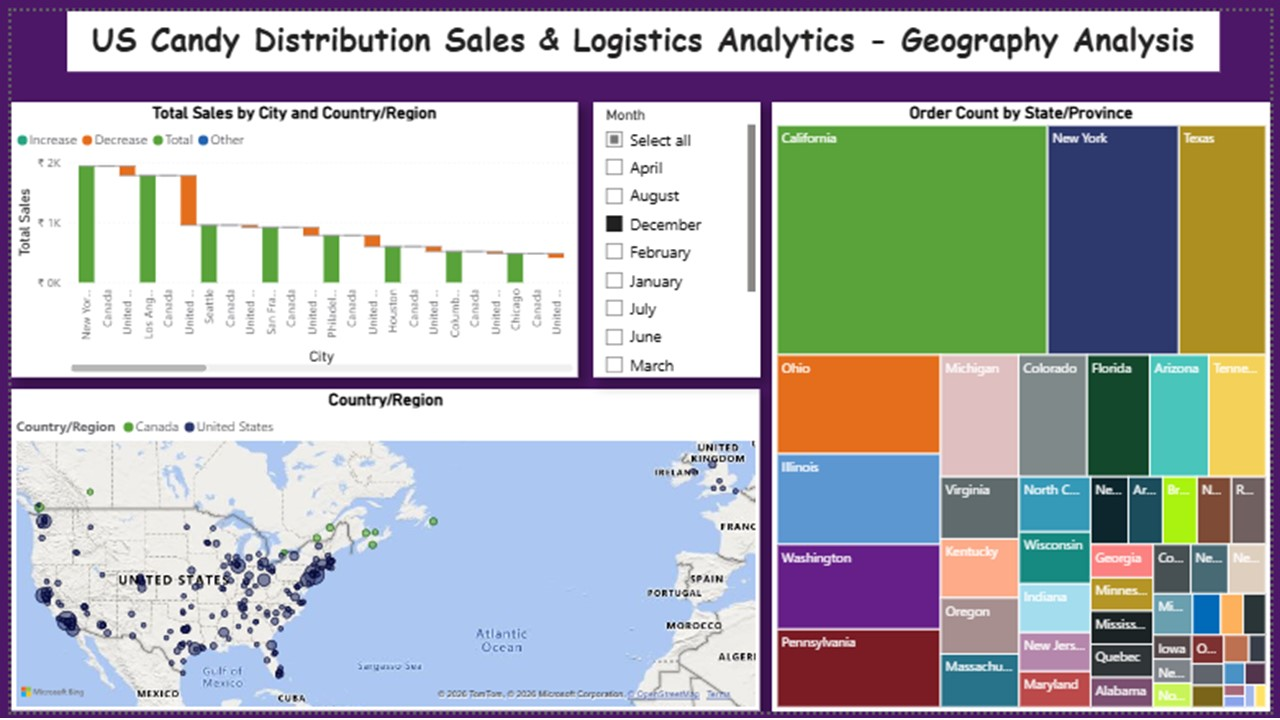

The page's visual inventory and layout, read from the dashboard file:
{"tool":"powerbi","page":{"name":"Geography Analysis","canvas":[1280,720],"ordinal":2},"visuals":[{"type":"waterfallChart","fields":{"Category":["Candy Sales.City"],"Breakdown":["Candy Sales.Country/Region"],"Y":["Candy Sales.Total Sales"]},"box":[0,92.9,575.7,282.9],"z":0},{"type":"map","title":"Country/Region","fields":{"Category":["Candy Sales.City"],"Series":["Candy Sales.Country/Region"],"Size":["CountNonNull(Date Table.Moving Average)"]},"box":[0,388.6,761.4,331.4],"z":1000},{"type":"slicer","fields":{"Values":["Date Table.Month"]},"box":[591.4,92.9,170,282.9],"z":2000},{"type":"treemap","fields":{"Group":["Candy Sales.State/Province"],"Values":["Candy Sales.Order Count"]},"box":[772.9,92.9,507.1,627.1],"z":3000},{"type":"textbox","box":[56.7,0,1171.7,61.7],"z":4000}]}

Visuals, with their boxes in screenshot pixels (x1, y1, x2, y2), scaled from the page's 1280x720 canvas onto the 1280x720 screenshot:
waterfallChart - Candy Sales.City x Candy Sales.Country/Region: locate(0, 93, 576, 376)
"Country/Region" map: locate(0, 389, 761, 719)
slicer - Date Table.Month: locate(591, 93, 761, 376)
treemap - Candy Sales.State/Province x Candy Sales.Order Count: locate(773, 93, 1279, 719)
textbox: locate(57, 0, 1228, 62)
